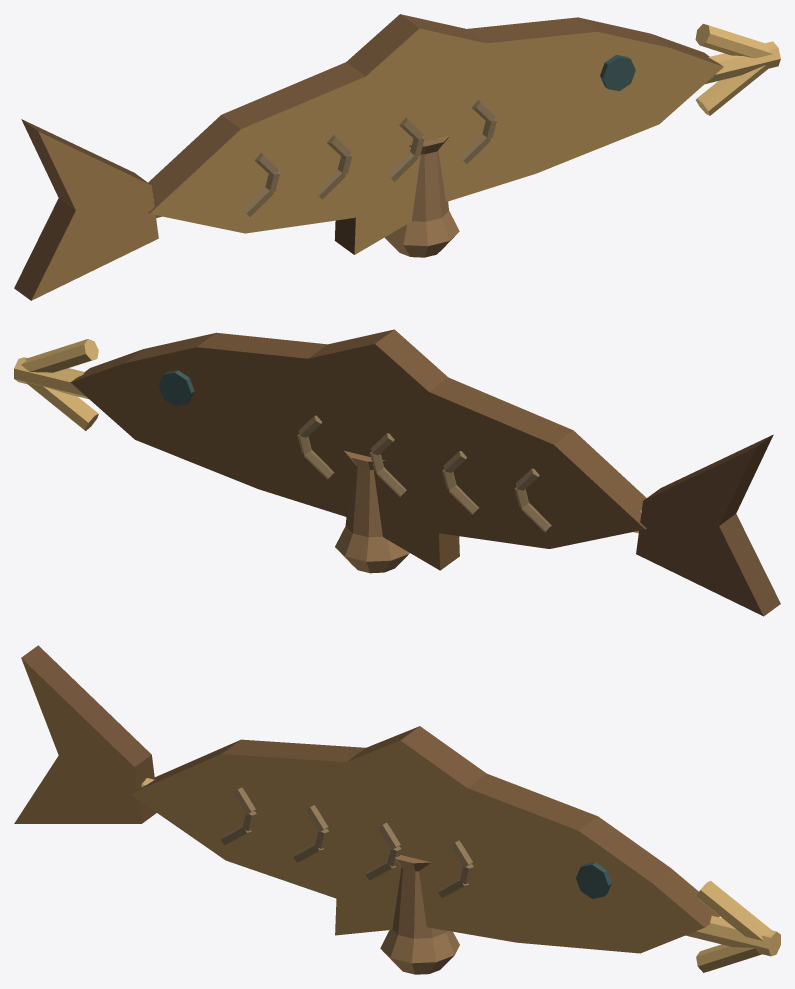
The model's file is fish_vane.glb.
3 views of the same model, one above another, from view 1: azimuth 30°, elevation 25°; view 2: azimuth 150°, elevation 25°; view 3: azimuth 330°, elevation 25° (orthographic).
Parts seen in each view (by area): view 1: fish_vane; view 2: fish_vane; view 3: fish_vane.
Boxes of the visible parts, x1=… form: fish_vane: x1=14, y1=14, x2=780, y2=300; fish_vane: x1=14, y1=329, x2=780, y2=616; fish_vane: x1=14, y1=645, x2=780, y2=974.
Bounding box in the file's own units: 1.06 × 0.309 × 0.0932.
